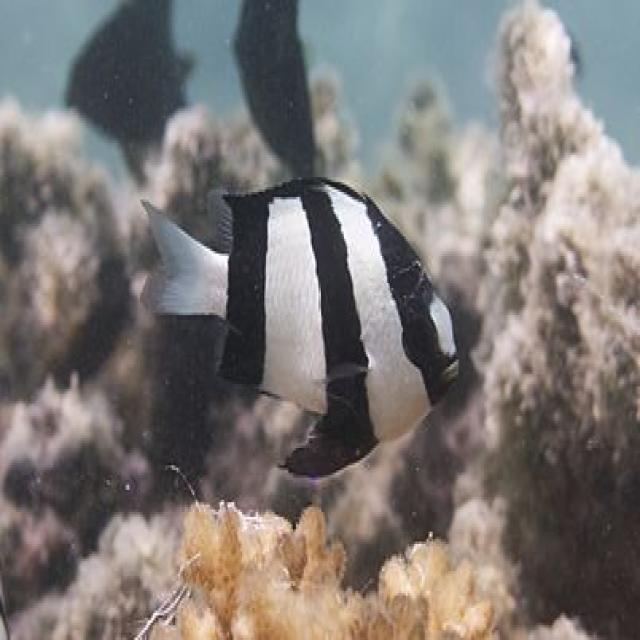ThreeStripedDamselfish: (140, 177, 465, 482)
